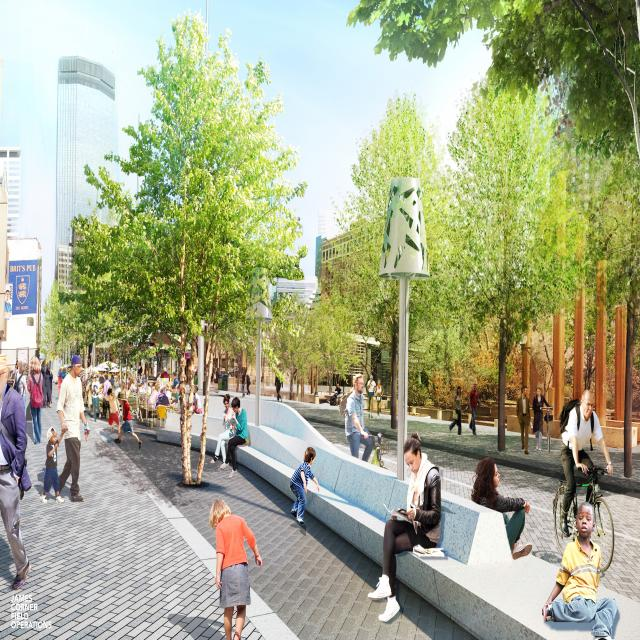body: (365, 428, 443, 625), (540, 498, 621, 640), (558, 388, 614, 538), (207, 494, 263, 640), (0, 351, 33, 591), (472, 457, 532, 561), (52, 352, 92, 503), (344, 373, 374, 464), (219, 396, 250, 477), (290, 446, 320, 524), (166, 610, 240, 640), (40, 426, 68, 505), (210, 393, 236, 469), (114, 391, 143, 450), (27, 354, 44, 446), (532, 385, 554, 453), (35, 468, 73, 503), (104, 385, 128, 439), (515, 384, 533, 455), (12, 357, 28, 417), (468, 381, 483, 436), (448, 385, 463, 437), (176, 386, 202, 416), (0, 536, 15, 587), (91, 373, 102, 424), (367, 374, 377, 420), (102, 373, 112, 419), (374, 378, 384, 421), (44, 366, 54, 409), (156, 385, 170, 410), (289, 520, 308, 538), (149, 384, 159, 418), (327, 384, 342, 404), (41, 367, 48, 408), (168, 372, 180, 394), (169, 384, 181, 404), (88, 374, 94, 413), (26, 403, 32, 442), (56, 368, 64, 397), (5, 286, 12, 316), (275, 377, 283, 402), (115, 382, 121, 413), (162, 384, 170, 406), (139, 382, 146, 406), (240, 371, 246, 397), (160, 367, 170, 382), (156, 371, 162, 396), (58, 367, 68, 382), (113, 375, 120, 396), (170, 385, 179, 400), (12, 361, 19, 380), (246, 372, 251, 396), (86, 372, 90, 401), (82, 375, 86, 401), (131, 380, 138, 394), (212, 363, 216, 384), (96, 375, 100, 395), (126, 383, 130, 402), (98, 373, 105, 383), (146, 382, 152, 393), (110, 374, 115, 387), (137, 373, 141, 389), (130, 379, 136, 388), (193, 365, 197, 378), (142, 373, 146, 386), (152, 381, 156, 393), (100, 382, 104, 394), (142, 379, 146, 390), (118, 374, 124, 381), (294, 373, 297, 384), (80, 372, 84, 380), (122, 382, 125, 392), (90, 372, 97, 376), (67, 368, 71, 373), (128, 377, 130, 386), (196, 366, 198, 374), (132, 373, 134, 380), (146, 379, 148, 384), (99, 380, 101, 384), (109, 378, 111, 381)
